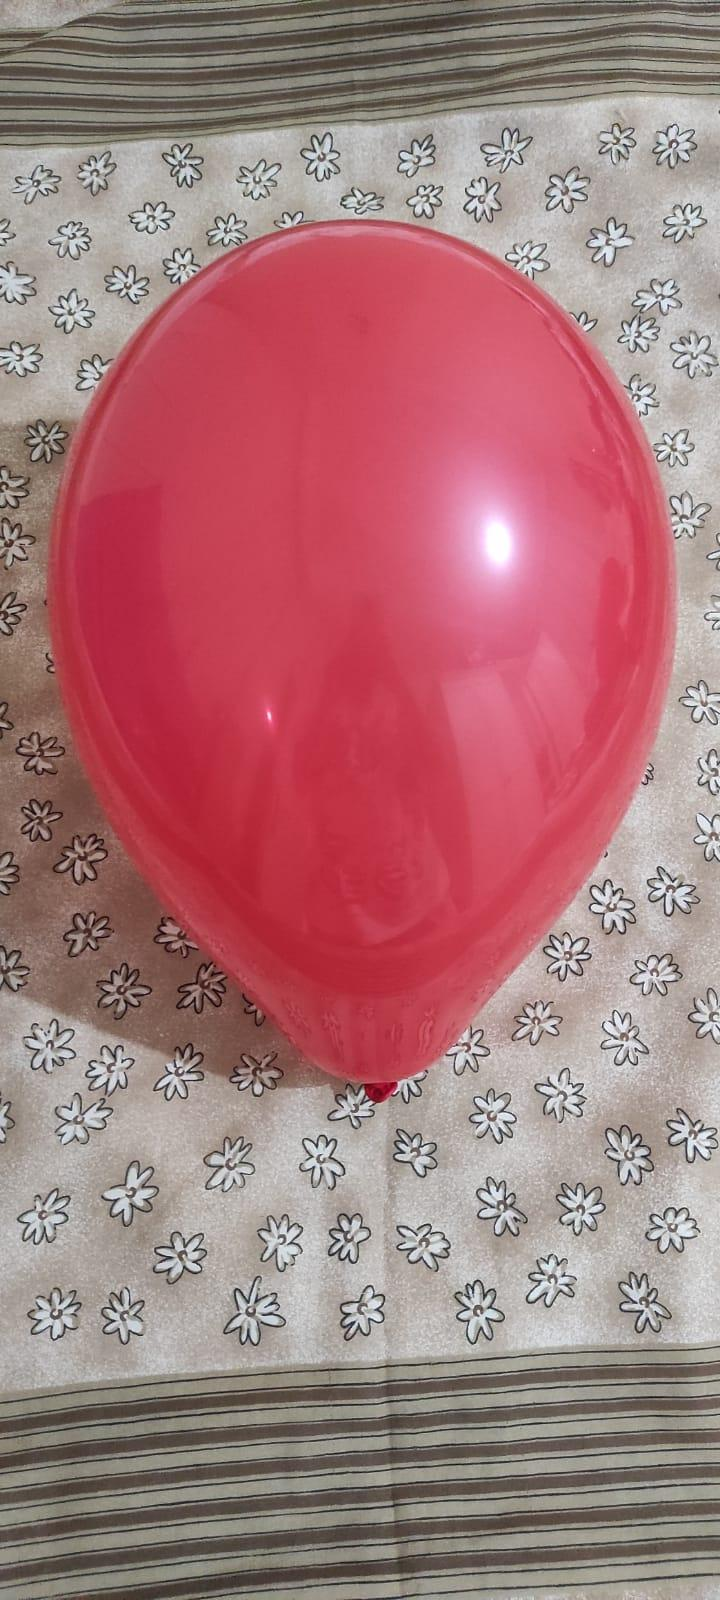red: (44, 210, 683, 1102)
